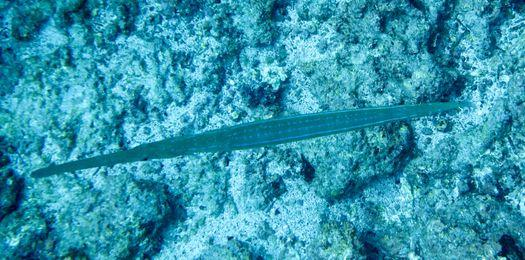Fistularia commersonii: (29, 97, 463, 179)
